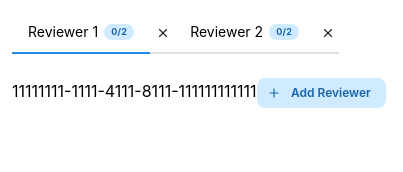
ReviewerTabs › removes an empty reviewer slice immediately and returns two reviewers to single mode
Click the button named "Remove Reviewer 2".
click(328, 33)  # box [317,22,339,44]
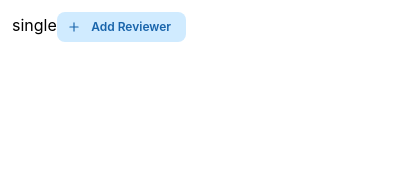
Expected: the element with test id "reviewer-tabs" is gone
